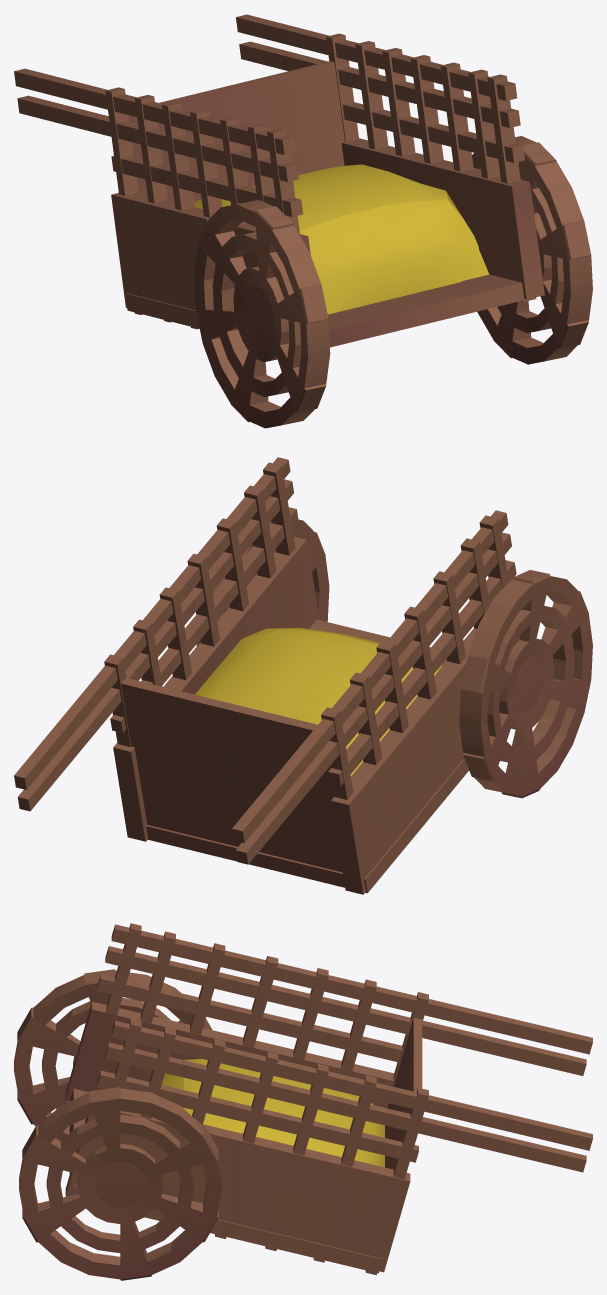
Rendered from Cart.fbx.
3 views of the same model, one above another, from view 1: azimuth 30°, elevation 25°; view 2: azimuth 150°, elevation 25°; view 3: azimuth 270°, elevation 25° (orthographic). The views are drawn at different scales.
Parts seen in each view (by area): view 1: Cart1; view 2: Cart1; view 3: Cart1.
Part boxes in pixels (x1=…): Cart1: x1=14, y1=14, x2=592, y2=428; Cart1: x1=14, y1=457, x2=592, y2=894; Cart1: x1=14, y1=923, x2=592, y2=1280.
Size of the model in its own units: 175 by 160 by 335.
